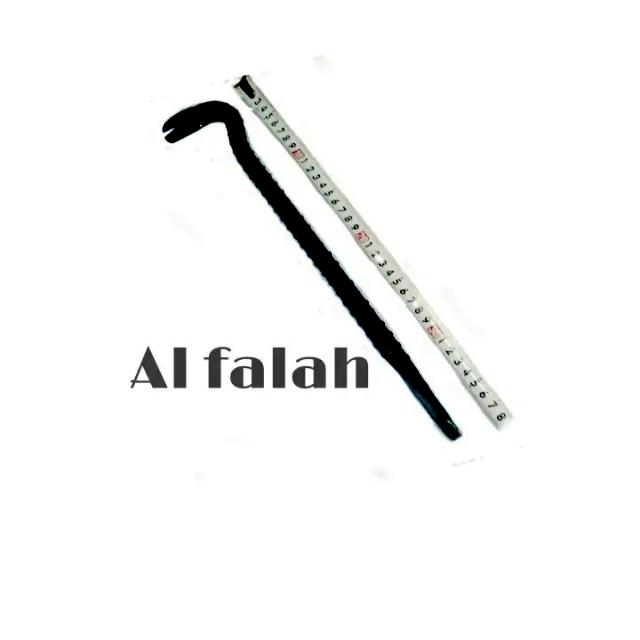crow bar: (153, 92, 465, 444)
